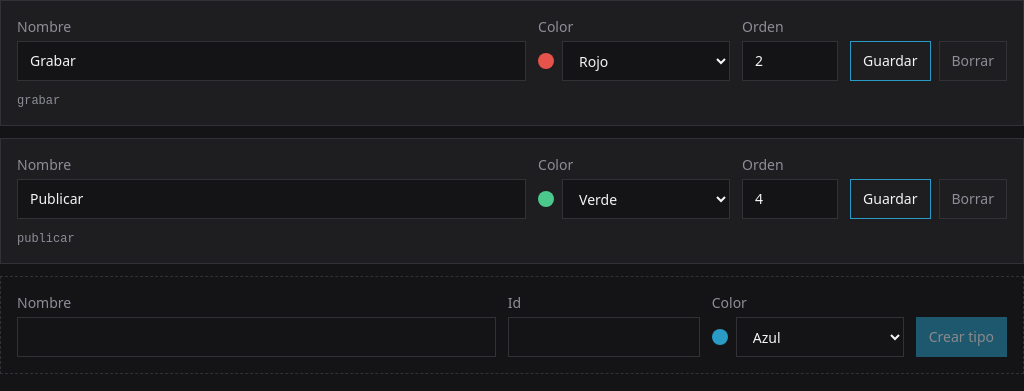
Test: EditorTipos › crea un tipo con el id derivado del nombre y el orden siguiente
Later steps or results of the test are not shown.
Type "Edición rápida" into the field labelled "Nombre" below "Id".
click(256, 337); type("Edición rápida")  # box [17,317,496,357]
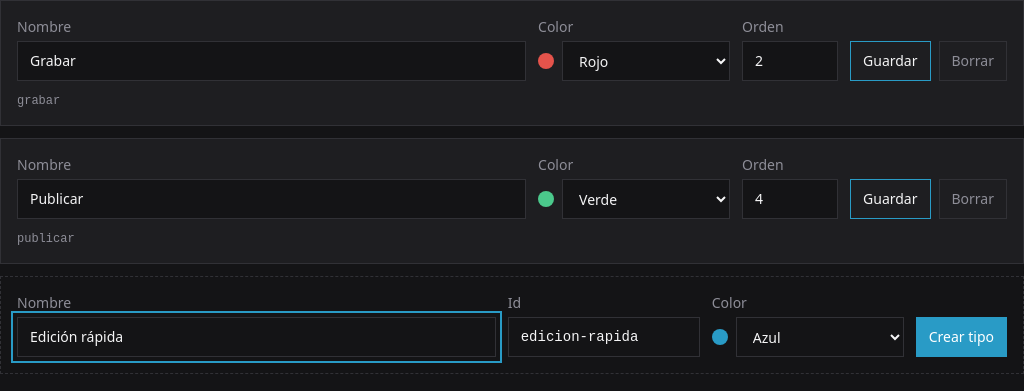
Expected: the field labelled "Id" holds "edicion-rapida", [508,317,700,357]
